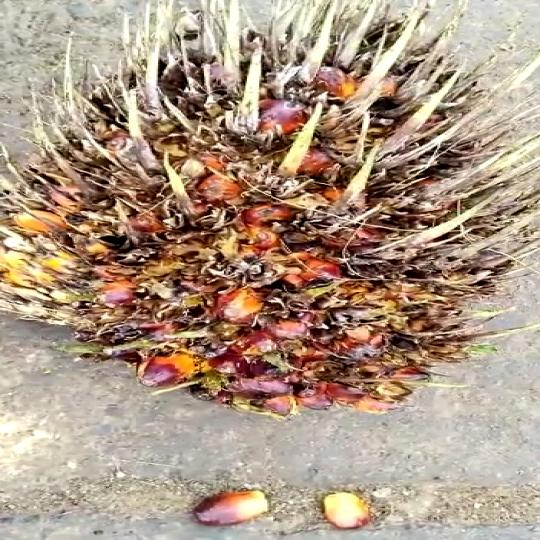terlalu masak: (0, 5, 509, 419)
